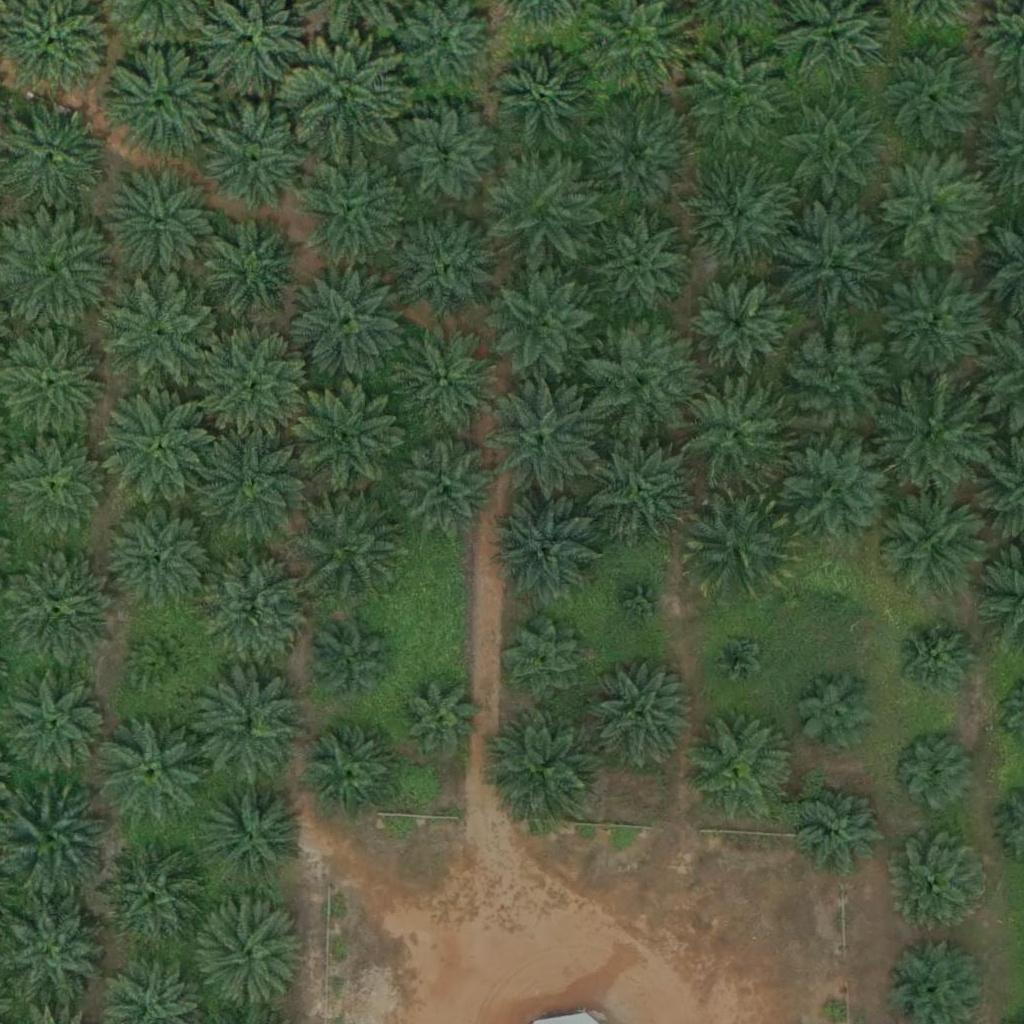Kelapa_Sawit: (681, 40, 794, 154), (876, 266, 989, 380), (873, 376, 986, 490), (774, 95, 887, 209), (776, 205, 889, 319), (684, 160, 797, 274), (198, 549, 311, 663), (104, 390, 217, 504), (107, 43, 220, 156), (289, 39, 402, 152), (878, 486, 991, 599), (780, 326, 893, 439), (488, 270, 601, 383), (488, 383, 601, 496), (491, 498, 604, 611), (386, 319, 499, 432), (202, 330, 315, 443), (196, 425, 309, 538), (103, 165, 216, 278), (107, 281, 220, 394), (96, 716, 209, 829), (93, 838, 206, 951), (192, 673, 305, 786), (196, 777, 309, 890), (196, 900, 309, 1013), (491, 711, 604, 824), (683, 711, 795, 825), (682, 487, 794, 600), (580, 98, 692, 211), (877, 38, 989, 151), (875, 153, 987, 266), (785, 433, 897, 546), (680, 377, 792, 490), (580, 323, 692, 436), (584, 430, 696, 543), (483, 152, 595, 265), (295, 156, 407, 269), (292, 267, 404, 380), (297, 379, 409, 492), (296, 486, 408, 599), (202, 101, 314, 214), (2, 554, 114, 667), (584, 661, 696, 774), (397, 108, 497, 209), (497, 50, 597, 151), (689, 274, 789, 375), (591, 215, 691, 316), (397, 212, 497, 313), (398, 439, 498, 540), (207, 218, 307, 319), (7, 675, 107, 776), (112, 507, 212, 607), (5, 438, 105, 538), (891, 832, 991, 932), (307, 729, 395, 818), (800, 784, 888, 872), (503, 619, 590, 707), (794, 669, 881, 757), (893, 619, 980, 707), (890, 728, 977, 816), (316, 629, 391, 705), (402, 680, 477, 755), (133, 632, 195, 695), (618, 577, 668, 628), (712, 633, 762, 684), (809, 570, 859, 620)
